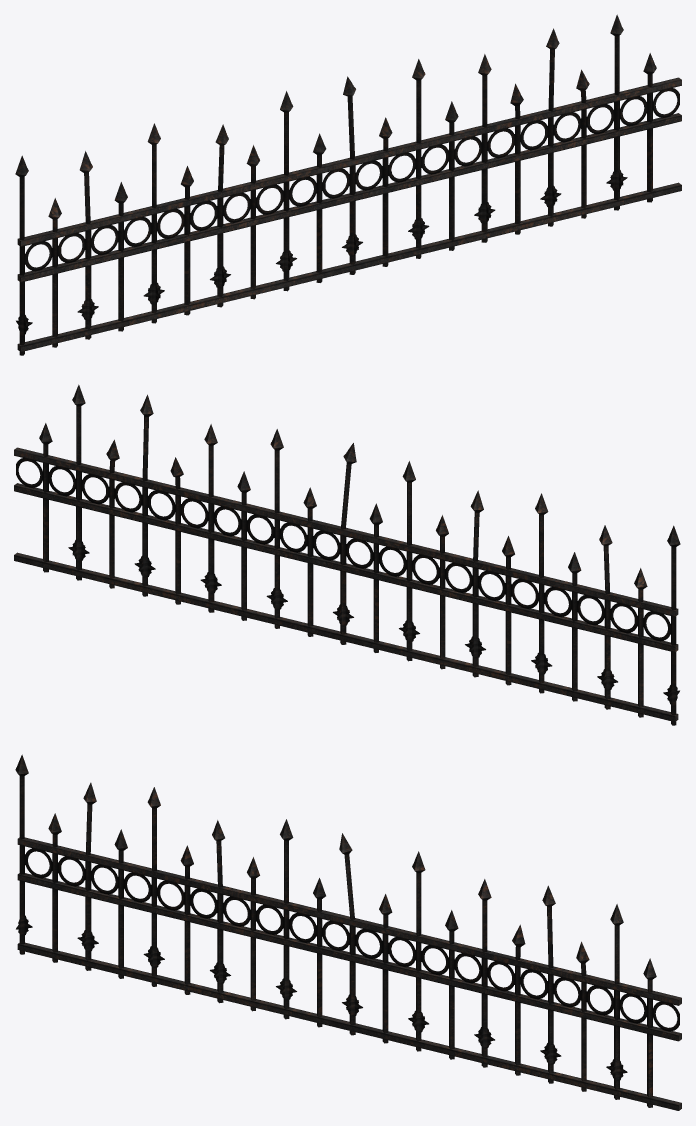
Rendered from Iron Fence Enclosure.FBX.
The picture shows the model from 3 angles, top to bottom: view 1: azimuth 30°, elevation 25°; view 2: azimuth 150°, elevation 25°; view 3: azimuth 330°, elevation 25°; orthographic projection.
Visible parts, largest first — view 1: Iron Fence Enclosure; view 2: Iron Fence Enclosure; view 3: Iron Fence Enclosure.
Part boxes in pixels (<box>): Iron Fence Enclosure: <box>15,14,681,355</box>; Iron Fence Enclosure: <box>14,384,680,725</box>; Iron Fence Enclosure: <box>15,754,681,1110</box>.
Bounding box in the file's own units: 40.24 × 11.67 × 1.71.
2 materials, 2 textured.
